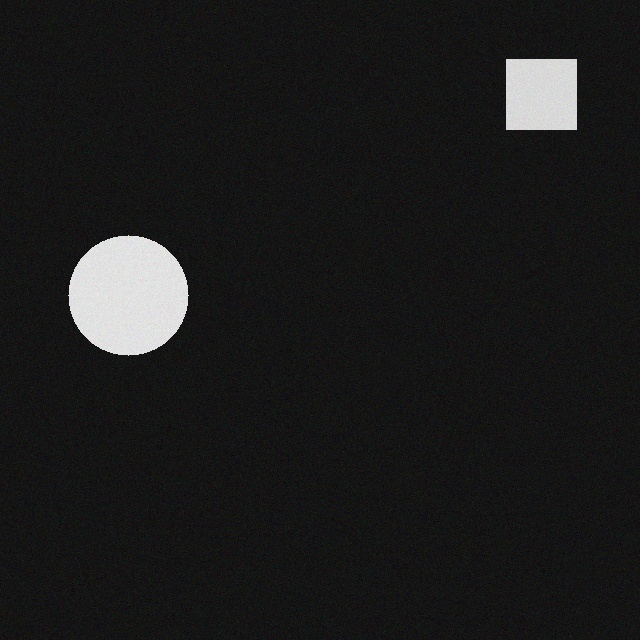circle: (59, 246, 179, 366)
square: (497, 70, 567, 140)
